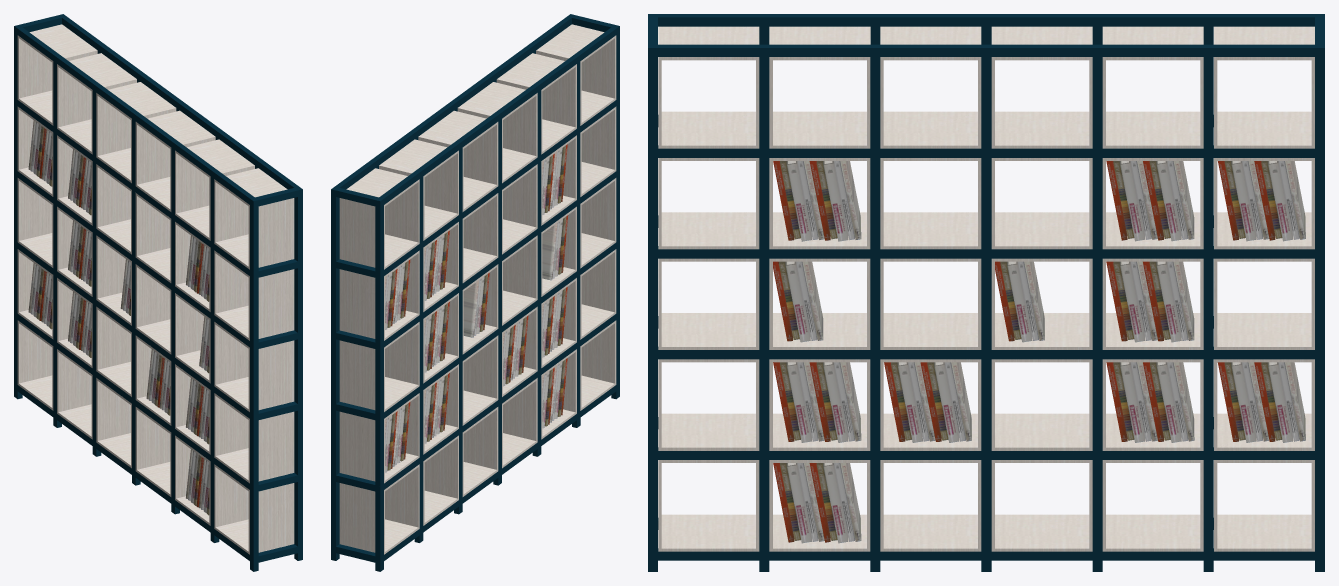
File: CK-shujia0003-CJBZ.FBX
3 renders of one model, left to right at view 1: azimuth 30°, elevation 25°; view 2: azimuth 150°, elevation 25°; view 3: azimuth 270°, elevation 25°, orthographic. The views are drawn at different scales.
Parts seen in each view (by area): view 1: CK-shujia0003-CJBZ; view 2: CK-shujia0003-CJBZ; view 3: CK-shujia0003-CJBZ.
Part boxes in pixels (x1,y1,x2,y2): CK-shujia0003-CJBZ: (14, 14, 302, 571); CK-shujia0003-CJBZ: (331, 14, 619, 571); CK-shujia0003-CJBZ: (648, 14, 1324, 571).
Size of the model in its own units: 0.3275 by 2.35 by 2.76.
Materials: 3 (2 with a texture image).
